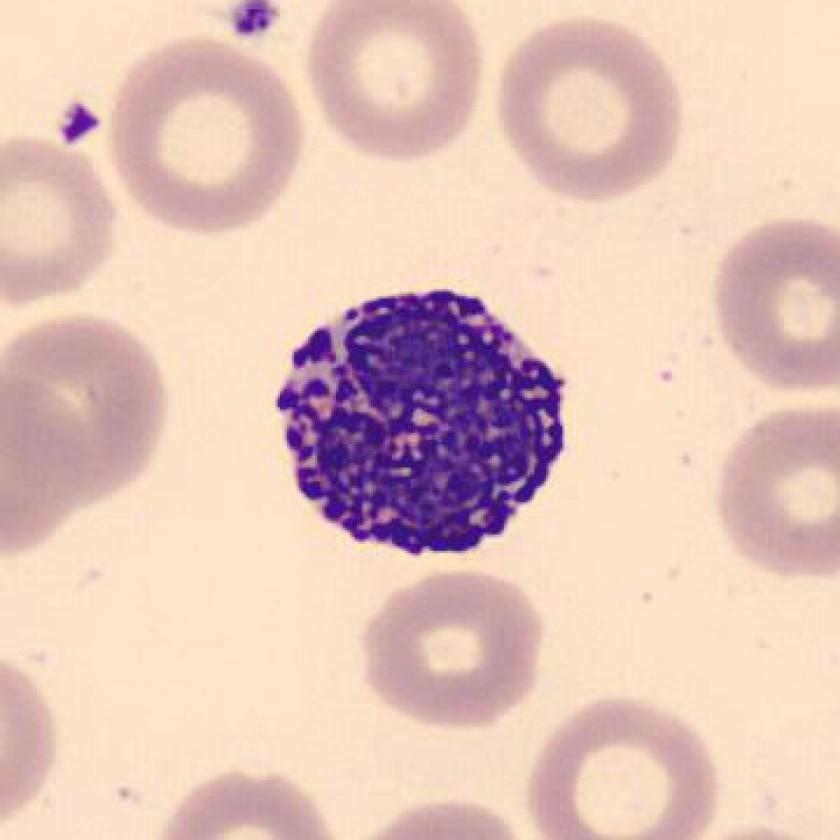basophil: (255, 270, 589, 564)
